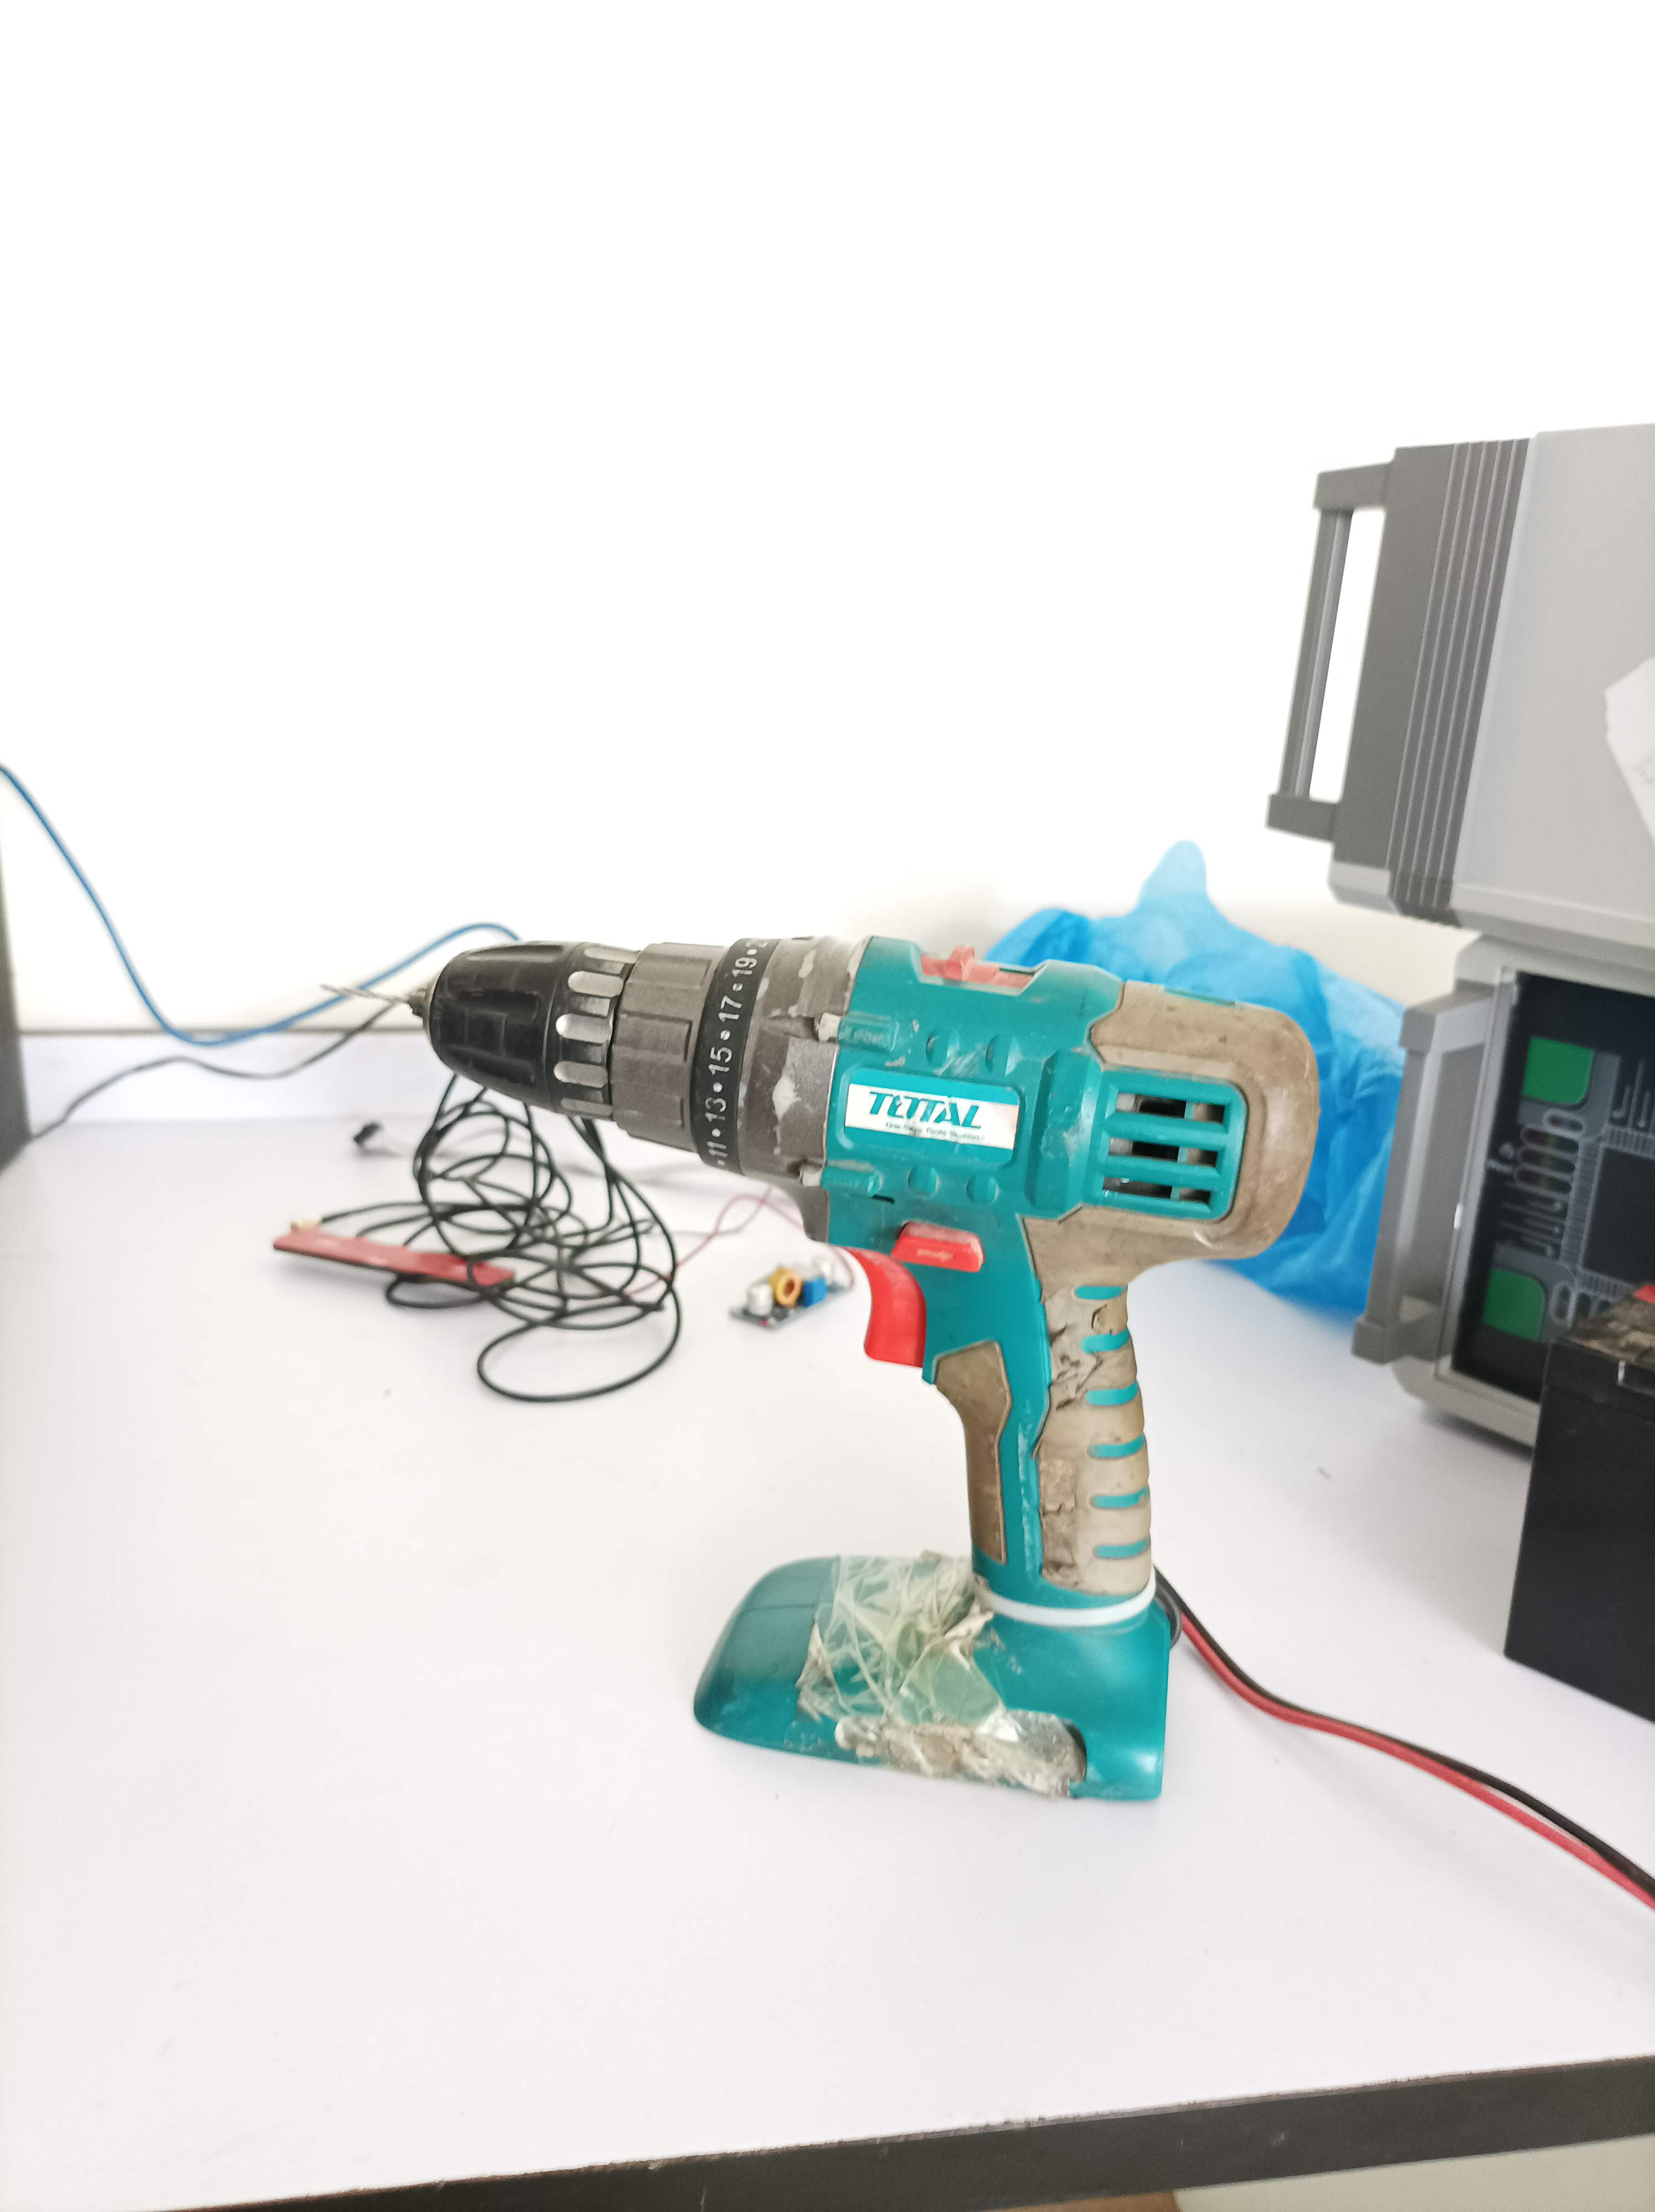driller: (309, 919, 1330, 1812)
